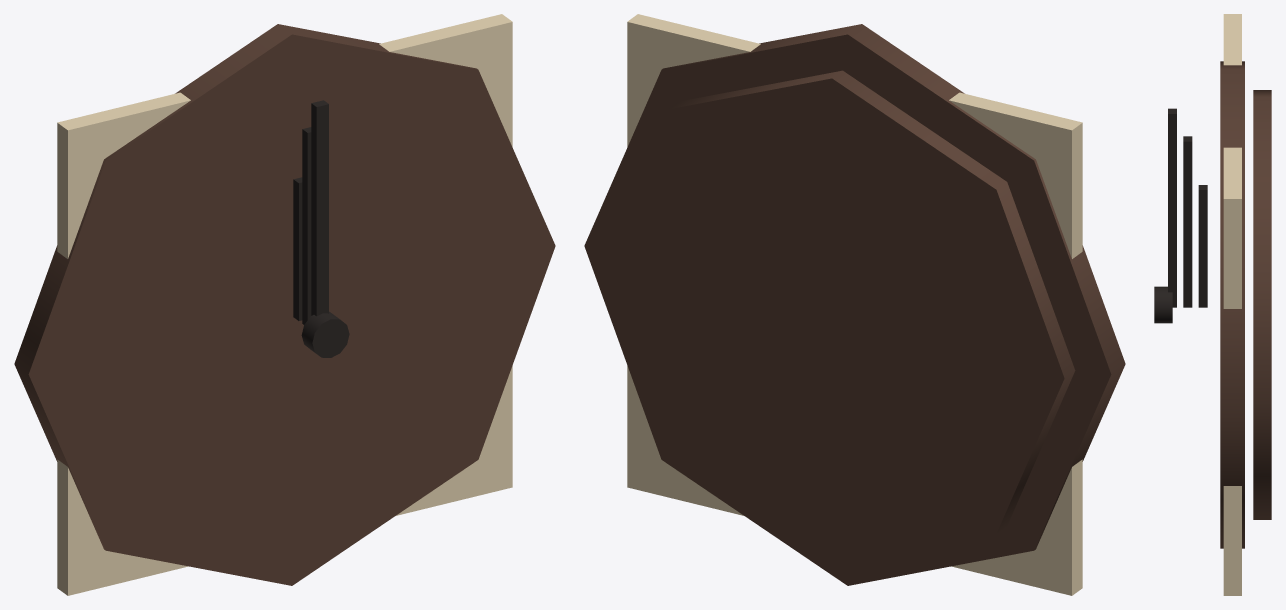
The model's file is analog-octagon-v1-model.glb.
The picture shows the model from 3 angles, left to right: view 1: azimuth 30°, elevation 25°; view 2: azimuth 150°, elevation 25°; view 3: azimuth 270°, elevation 25°; orthographic projection. The views are drawn at different scales.
Parts seen in each view (by area): view 1: clock-octagon-bezel, clock-face, clock-second-hand, clock-minute-hand, clock-center-cap, clock-hour-hand; view 2: clock-back, clock-octagon-bezel, clock-face; view 3: clock-back, clock-octagon-bezel, clock-face, clock-second-hand, clock-minute-hand, clock-hour-hand, clock-center-cap.
Part boxes in pixels (x1,y1,x2,y2): clock-octagon-bezel: (14,24,555,585); clock-face: (57,14,512,595); clock-second-hand: (311,100,328,316); clock-minute-hand: (302,127,311,324); clock-center-cap: (301,311,349,357); clock-hour-hand: (293,177,302,320); clock-back: (599,70,1075,564); clock-octagon-bezel: (584,24,1125,585); clock-face: (627,14,1082,595); clock-back: (1253,90,1271,519); clock-octagon-bezel: (1220,61,1244,548); clock-face: (1223,14,1241,595); clock-second-hand: (1168,108,1176,307); clock-minute-hand: (1183,136,1192,307); clock-hour-hand: (1198,185,1207,307); clock-center-cap: (1154,286,1172,323).
Size of the model in its own units: 0.34 by 0.34 by 0.077.
